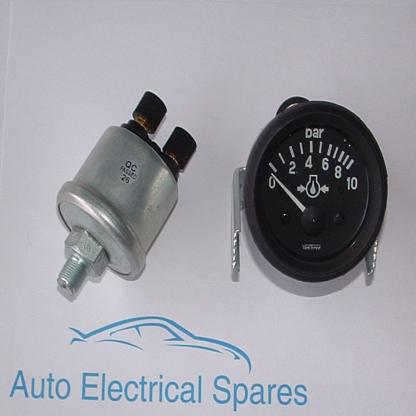needle: (270, 172, 306, 214)
